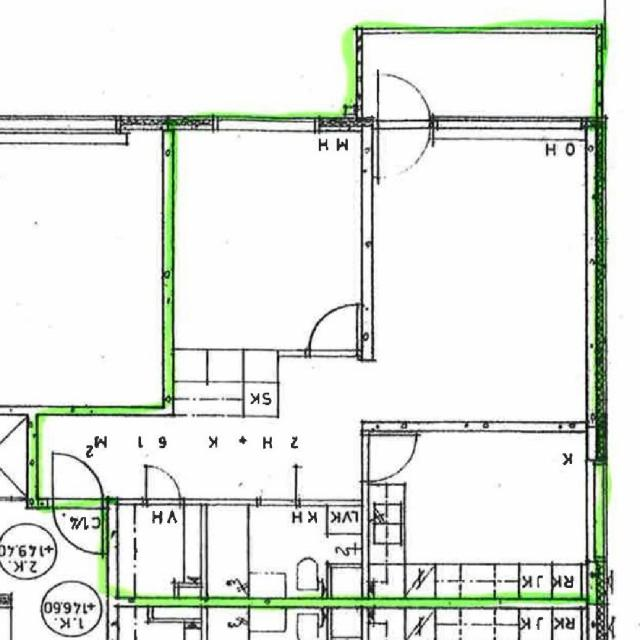door: (378, 117, 430, 178), (378, 67, 430, 128), (52, 450, 103, 508), (52, 498, 103, 556), (362, 435, 417, 481), (310, 304, 358, 356), (260, 464, 296, 505), (146, 466, 180, 505)
